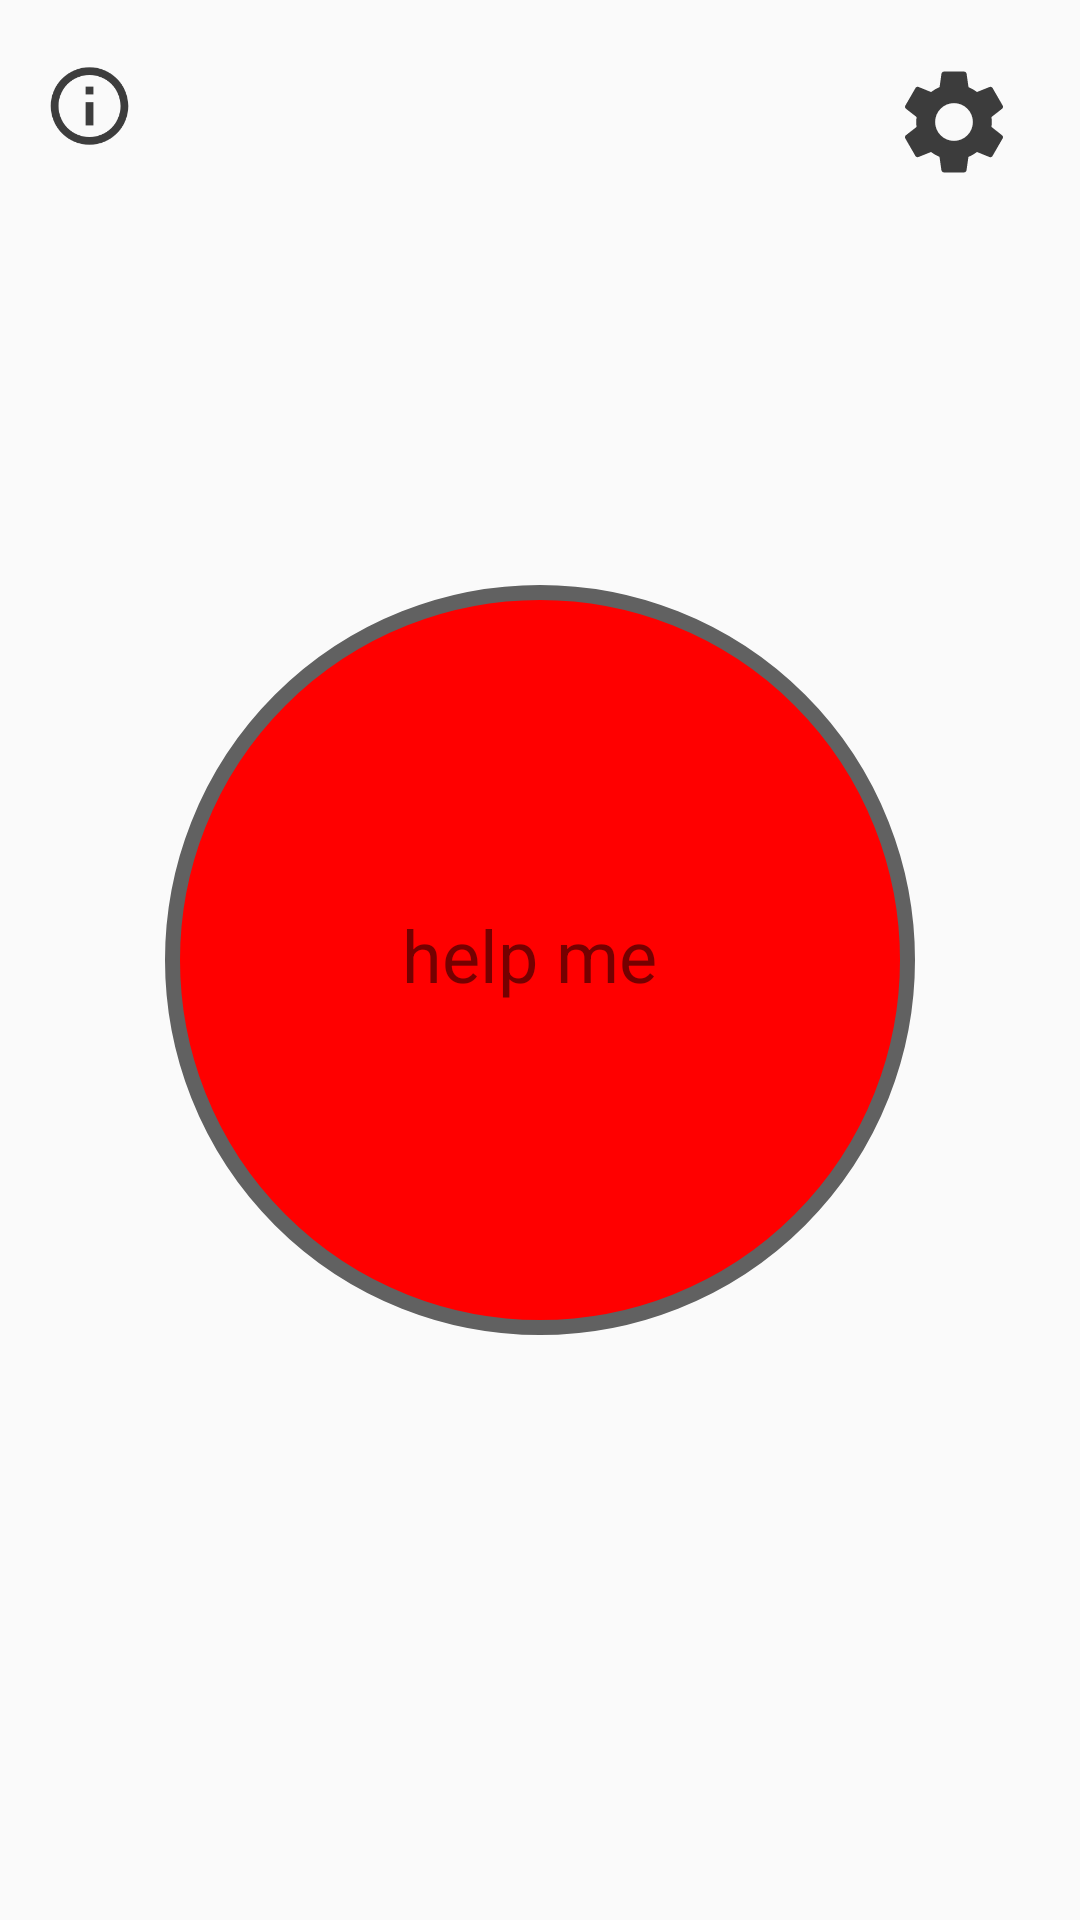

Screen size 1080px x 1920px. Icon name, then its box in pixels as (x1, y1, x2, y2):
information: (50, 67, 129, 145)
settings: (905, 71, 1003, 173)
